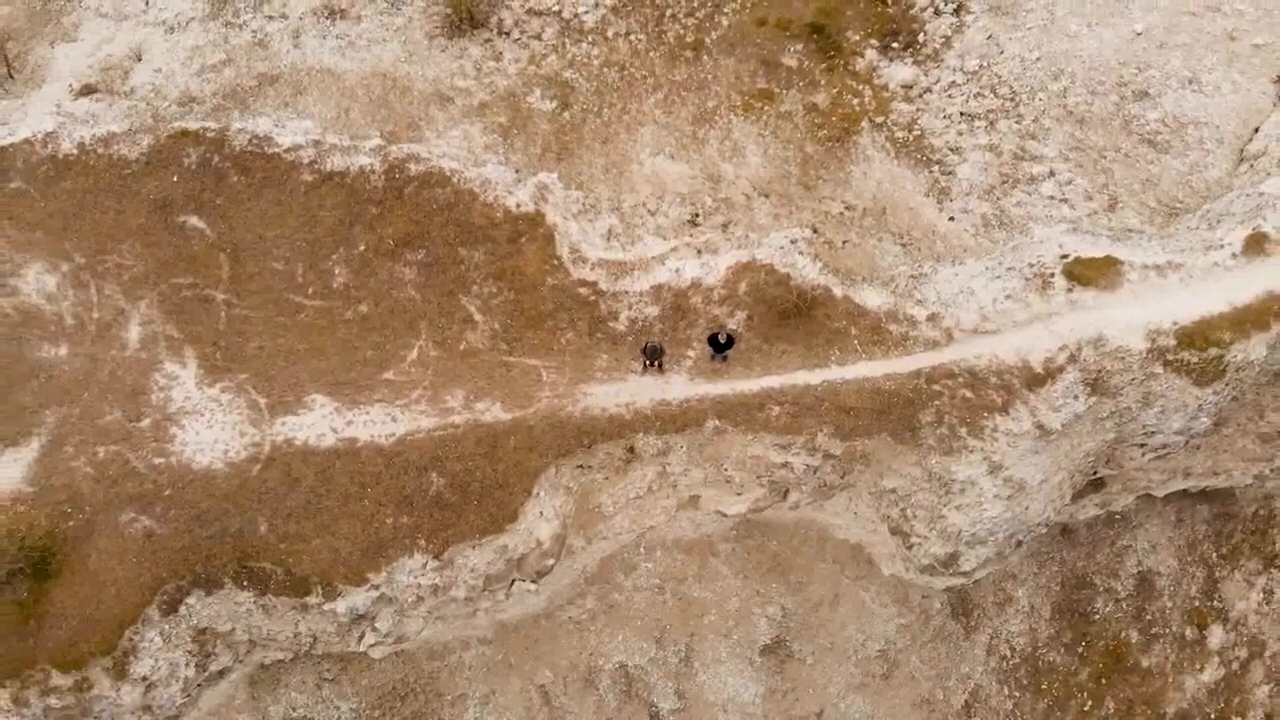insan: (701, 322, 737, 365), (639, 336, 669, 377)
